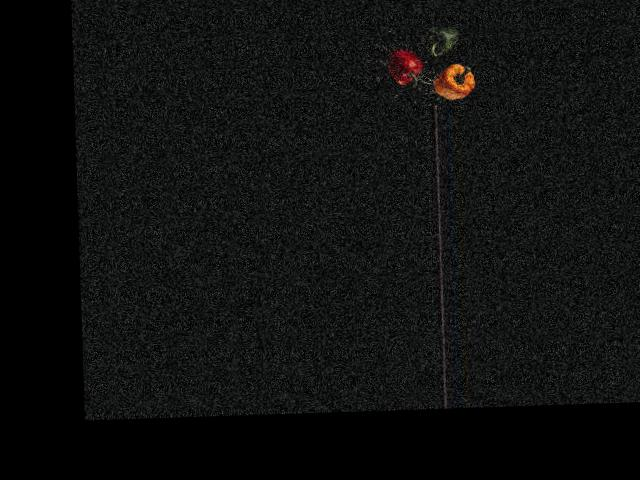bell_pepper: (386, 41, 430, 94)
